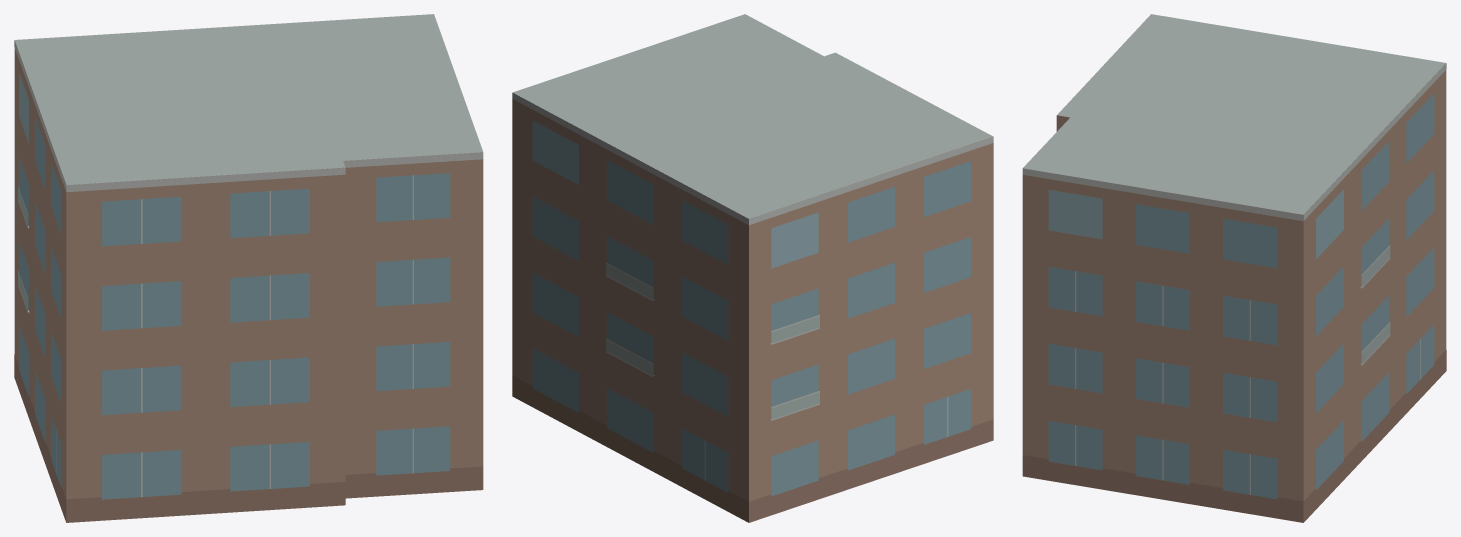
File: survey-upis-32492173.glb
3 views of the same model, side by side, from view 1: azimuth 30°, elevation 25°; view 2: azimuth 150°, elevation 25°; view 3: azimuth 270°, elevation 25° (orthographic). The views are drawn at different scales.
Visible parts, largest first — view 1: survey-upis-32492173.tmp; view 2: survey-upis-32492173.tmp; view 3: survey-upis-32492173.tmp.
Boxes of the visible parts, x1=… form: survey-upis-32492173.tmp: x1=14, y1=14, x2=483, y2=522; survey-upis-32492173.tmp: x1=512, y1=14, x2=993, y2=522; survey-upis-32492173.tmp: x1=1022, y1=14, x2=1446, y2=522.
Size of the model in its own units: 16.37 by 11.7 by 14.6.
